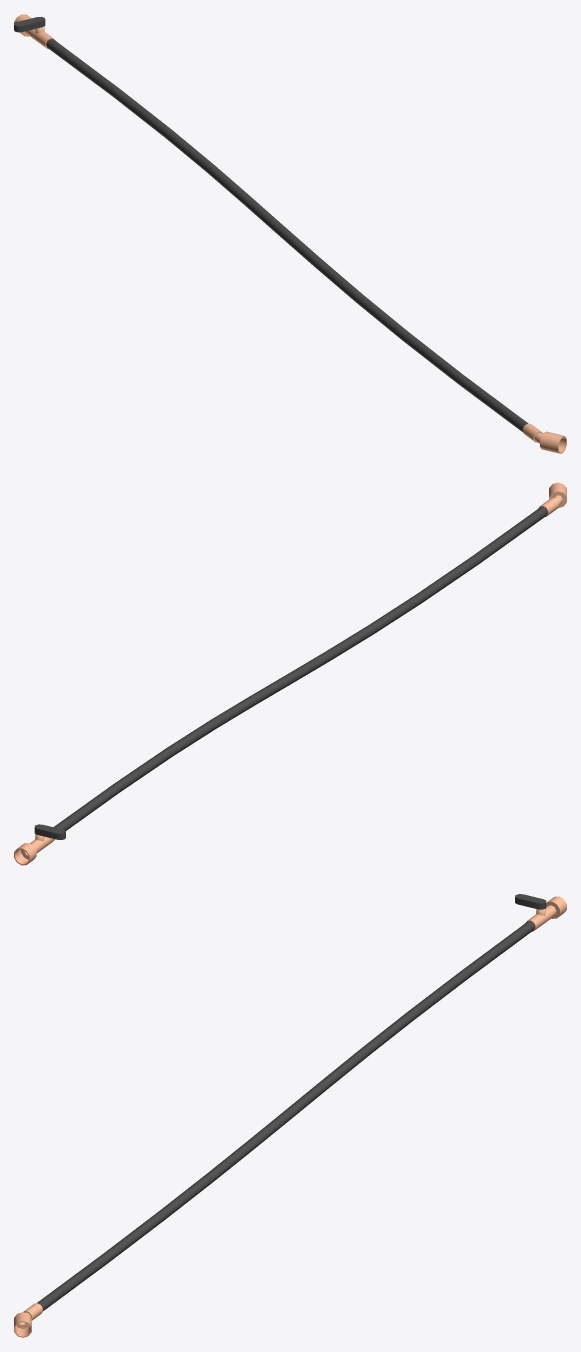
The model's file is wire_grey.glb.
3 renders of one model, top to bottom at view 1: azimuth 30°, elevation 25°; view 2: azimuth 150°, elevation 25°; view 3: azimuth 330°, elevation 25°, orthographic.
Visible parts, largest first — view 1: wg_03, wg_10, ng_1, wg_04, wg_09, wg_05, wg_06; view 2: wg_03, wg_10, wg_04, ng_2, wg_09, wg_05, ng_1, wg_06, wg_08, wg_07; view 3: wg_03, wg_10, wg_04, ng_2, wg_09, wg_05, ng_1, wg_06, wg_08.
Boxes of the visible parts, x1=… form: wg_03: x1=400, y1=331, x2=462, y2=382; wg_10: x1=112, y1=88, x2=171, y2=137; ng_1: x1=522, y1=423, x2=566, y2=453; wg_04: x1=354, y1=293, x2=407, y2=338; wg_09: x1=164, y1=129, x2=212, y2=171; wg_05: x1=314, y1=259, x2=361, y2=301; wg_06: x1=277, y1=227, x2=321, y2=266; wg_03: x1=416, y1=555, x2=479, y2=602; wg_10: x1=114, y1=747, x2=174, y2=791; wg_04: x1=368, y1=594, x2=423, y2=633; ng_2: x1=14, y1=834, x2=54, y2=865; wg_09: x1=167, y1=719, x2=218, y2=755; wg_05: x1=326, y1=625, x2=375, y2=659; ng_1: x1=538, y1=482, x2=566, y2=516; wg_06: x1=287, y1=651, x2=333, y2=682; wg_08: x1=211, y1=696, x2=256, y2=727; wg_07: x1=250, y1=674, x2=294, y2=704; wg_03: x1=103, y1=1211, x2=166, y2=1262; wg_10: x1=408, y1=970, x2=468, y2=1019; wg_04: x1=159, y1=1173, x2=214, y2=1219; ng_2: x1=525, y1=896, x2=566, y2=931; wg_09: x1=364, y1=1011, x2=415, y2=1053; wg_05: x1=207, y1=1139, x2=256, y2=1181; ng_1: x1=14, y1=1303, x2=42, y2=1337; wg_06: x1=249, y1=1107, x2=295, y2=1147; wg_08: x1=326, y1=1045, x2=371, y2=1085.
Bounding box in the file's own units: 0.0344 × 0.0515 × 0.9237.
Materials: 1 (1 with a texture image).
